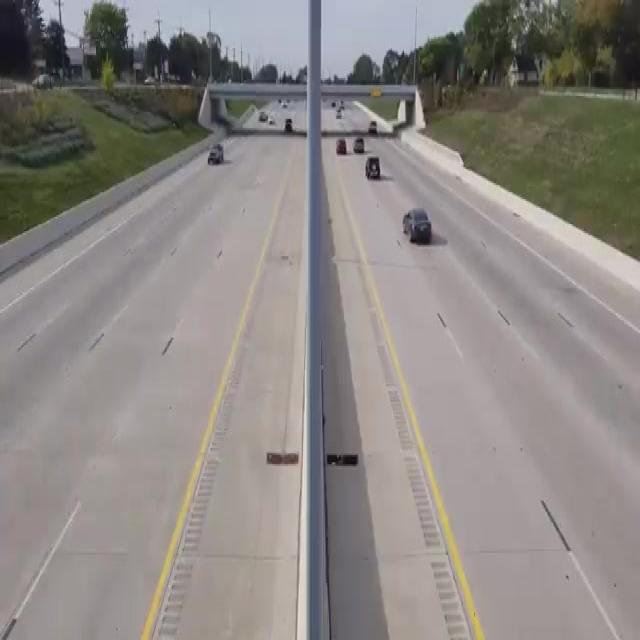car: (390, 207, 440, 248), (362, 151, 388, 192), (277, 108, 296, 136), (333, 134, 351, 156), (361, 118, 384, 135), (352, 136, 369, 152)
truck: (204, 138, 232, 174)
